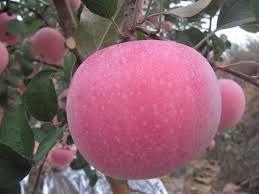Apple: (66, 39, 222, 180)
